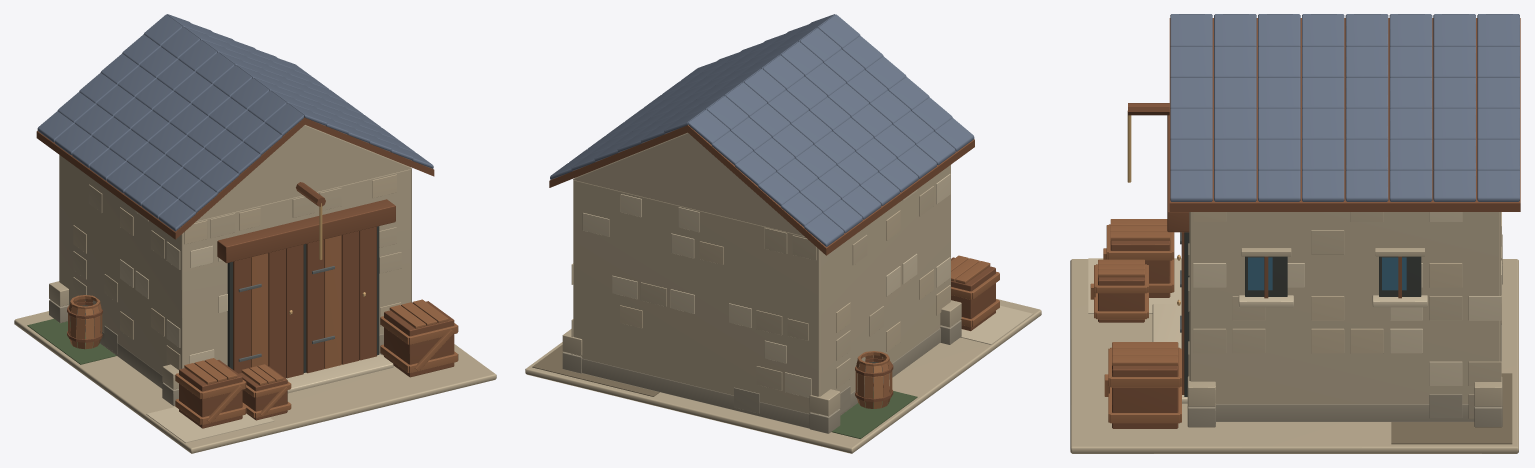
The model's file is depot.glb.
3 views of the same model, side by side, from view 1: azimuth 30°, elevation 25°; view 2: azimuth 150°, elevation 25°; view 3: azimuth 270°, elevation 25° (orthographic). The views are drawn at different scales.
Visible parts, largest first — view 1: depot; view 2: depot; view 3: depot.
Boxes of the visible parts, x1,y1,x2,y2 form: depot: [14, 14, 496, 453]; depot: [525, 14, 1041, 453]; depot: [1070, 14, 1520, 453].
Size of the model in its own units: 2.84 by 2.42 by 2.86.
